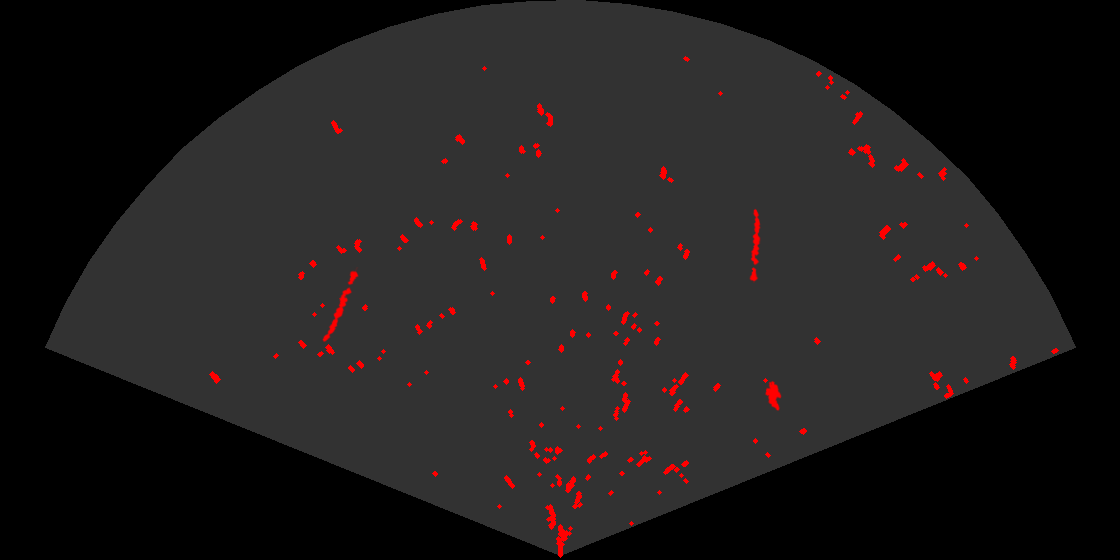AUV: (763, 379, 783, 412)
chain: (321, 267, 360, 344), (748, 208, 762, 283)
